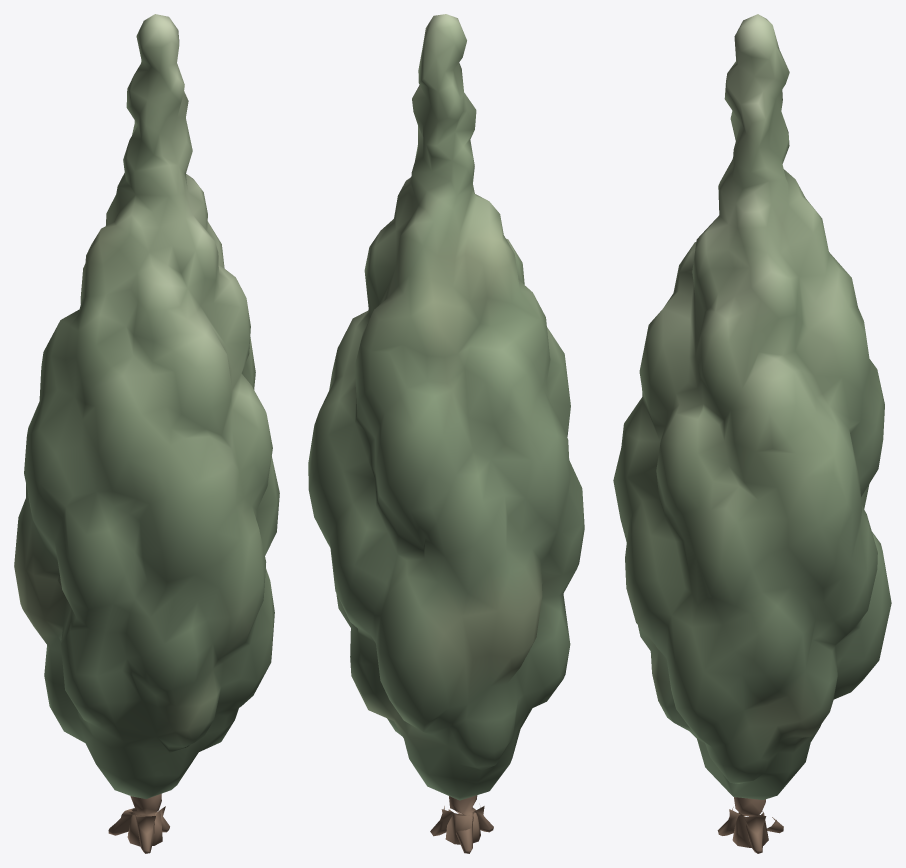
File: tree-cypress.glb
The picture shows the model from 3 angles, left to right: view 1: azimuth 30°, elevation 25°; view 2: azimuth 150°, elevation 25°; view 3: azimuth 270°, elevation 25°; orthographic projection.
Parts seen in each view (by area): view 1: tree-cypress; view 2: tree-cypress; view 3: tree-cypress.
Boxes of the visible parts, box(x1,y1,x2,y2) form: tree-cypress: box(14, 14, 279, 853); tree-cypress: box(308, 14, 584, 853); tree-cypress: box(613, 14, 891, 853).
Bounding box in the file's own units: 1.38 × 4.76 × 1.44.
